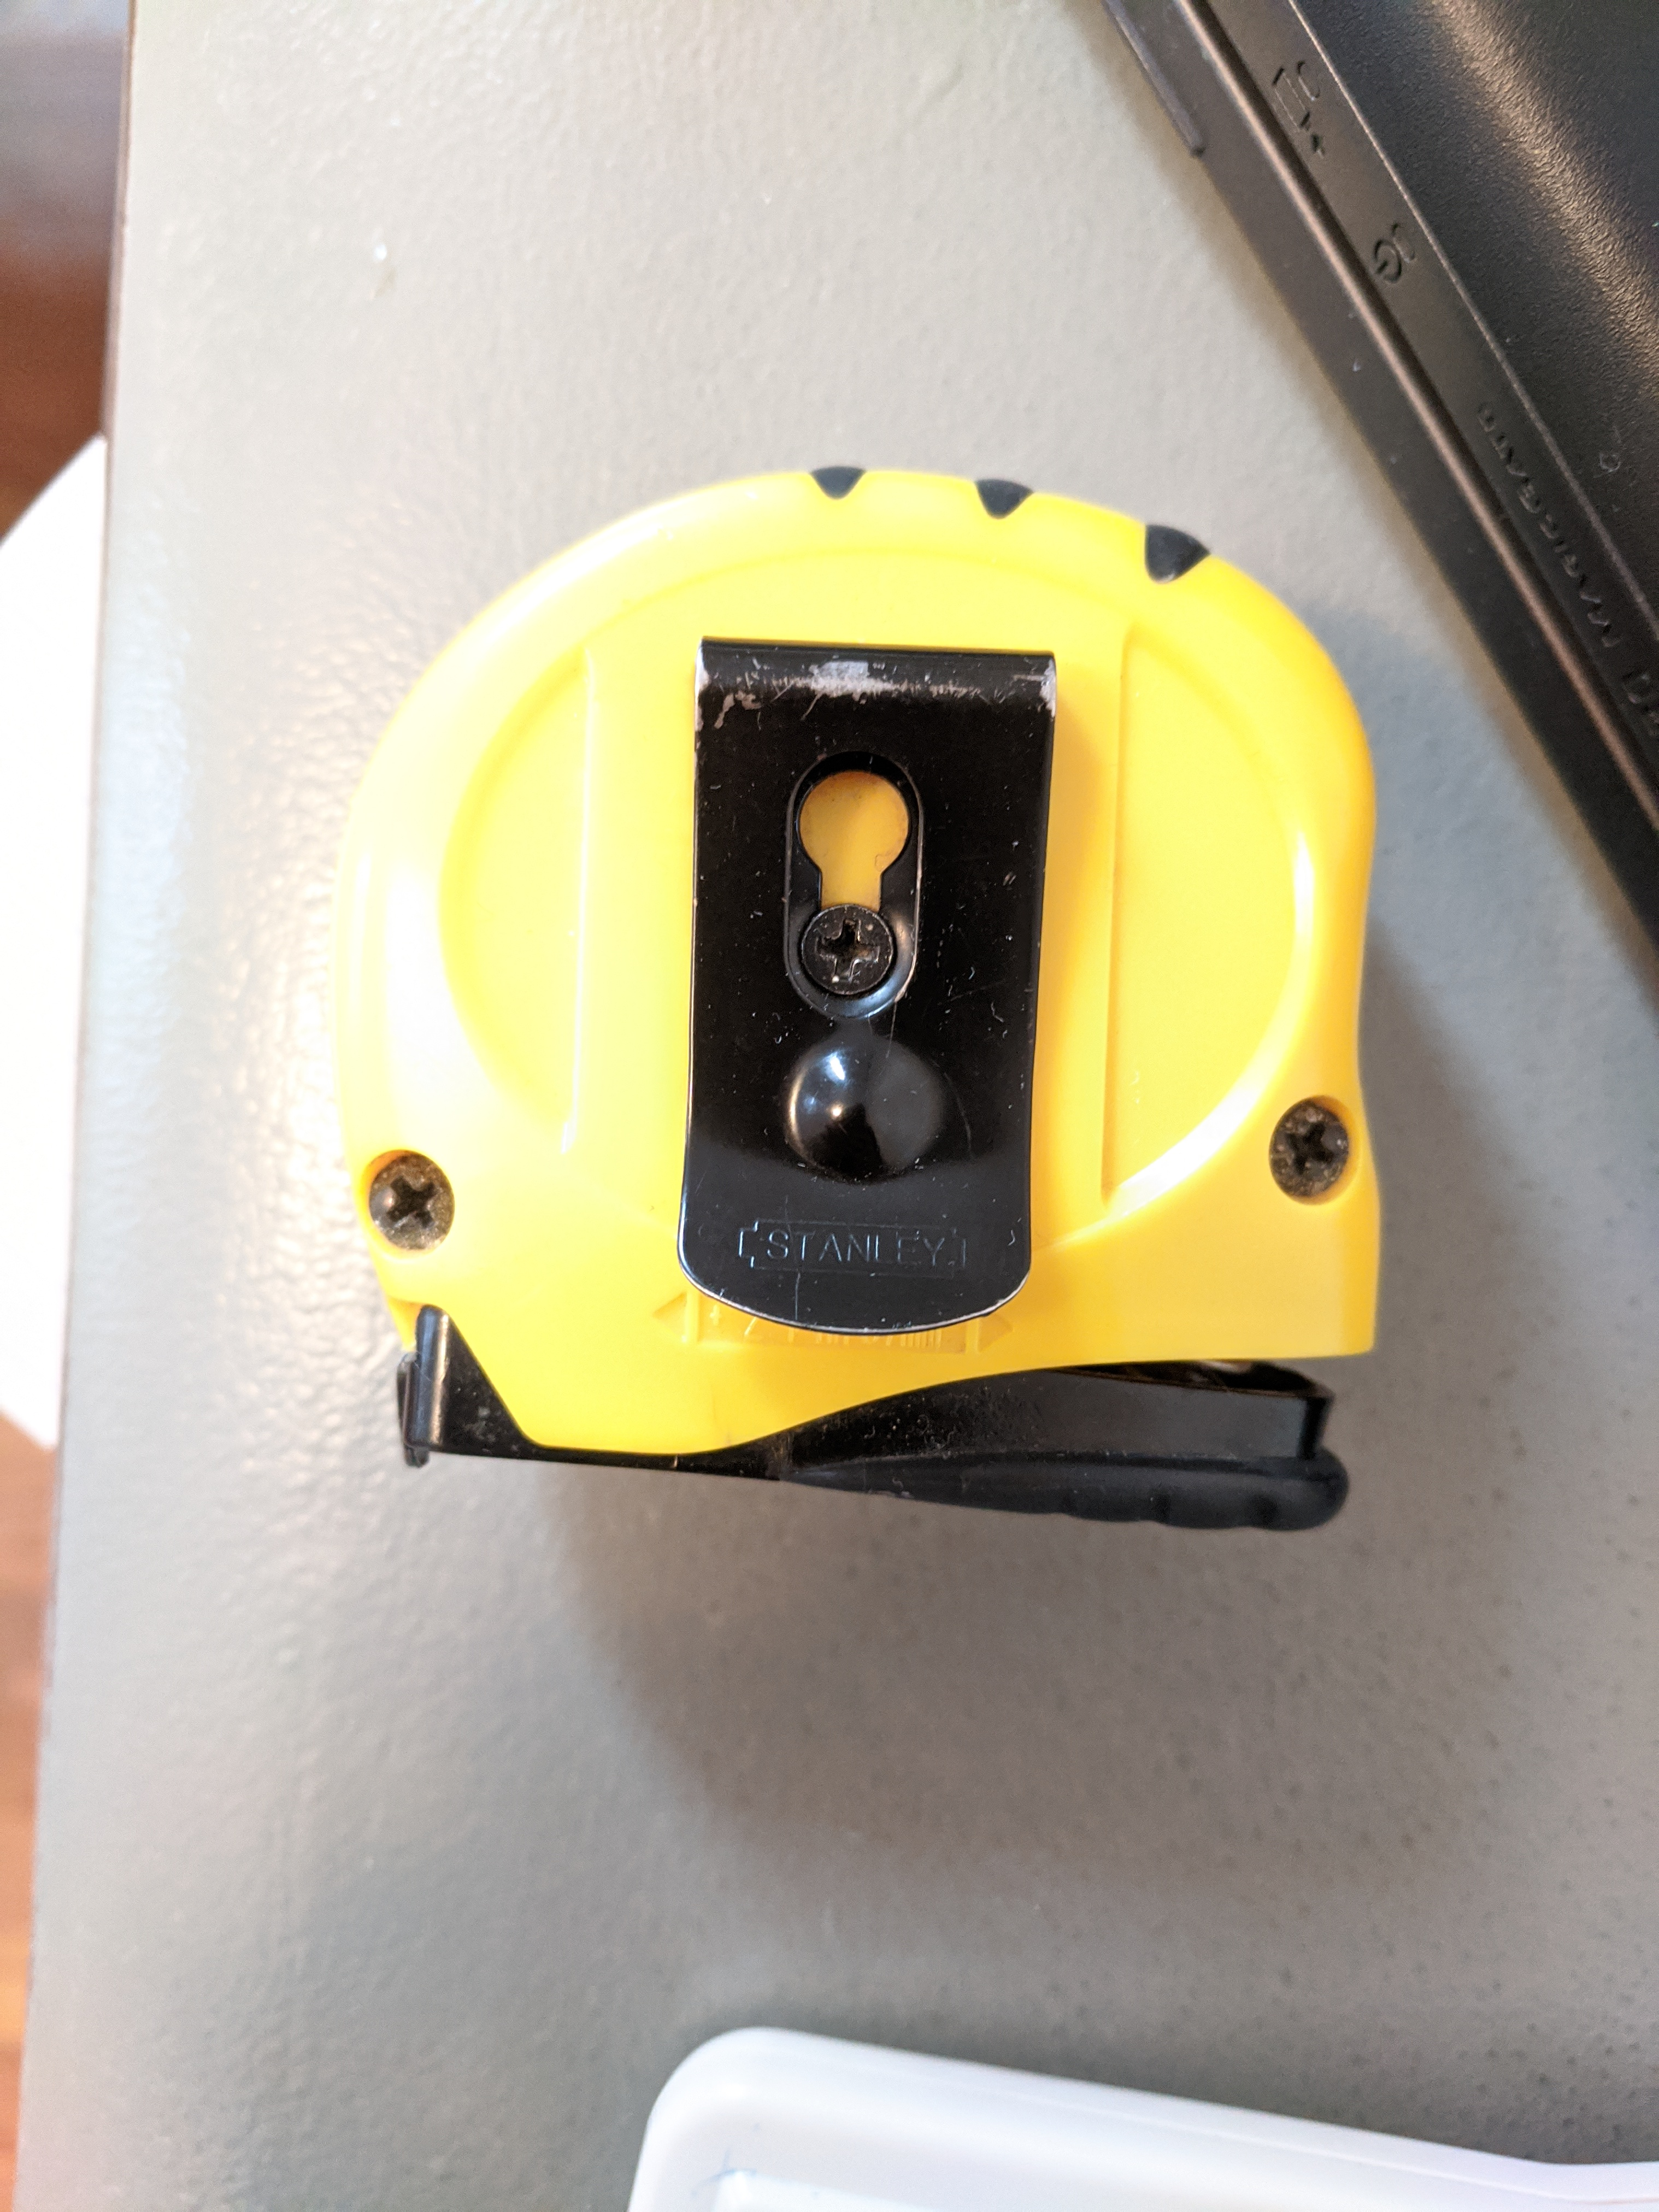cross_recessed_screw: (355, 1141, 455, 1244), (1274, 1092, 1354, 1193), (805, 902, 899, 984)
